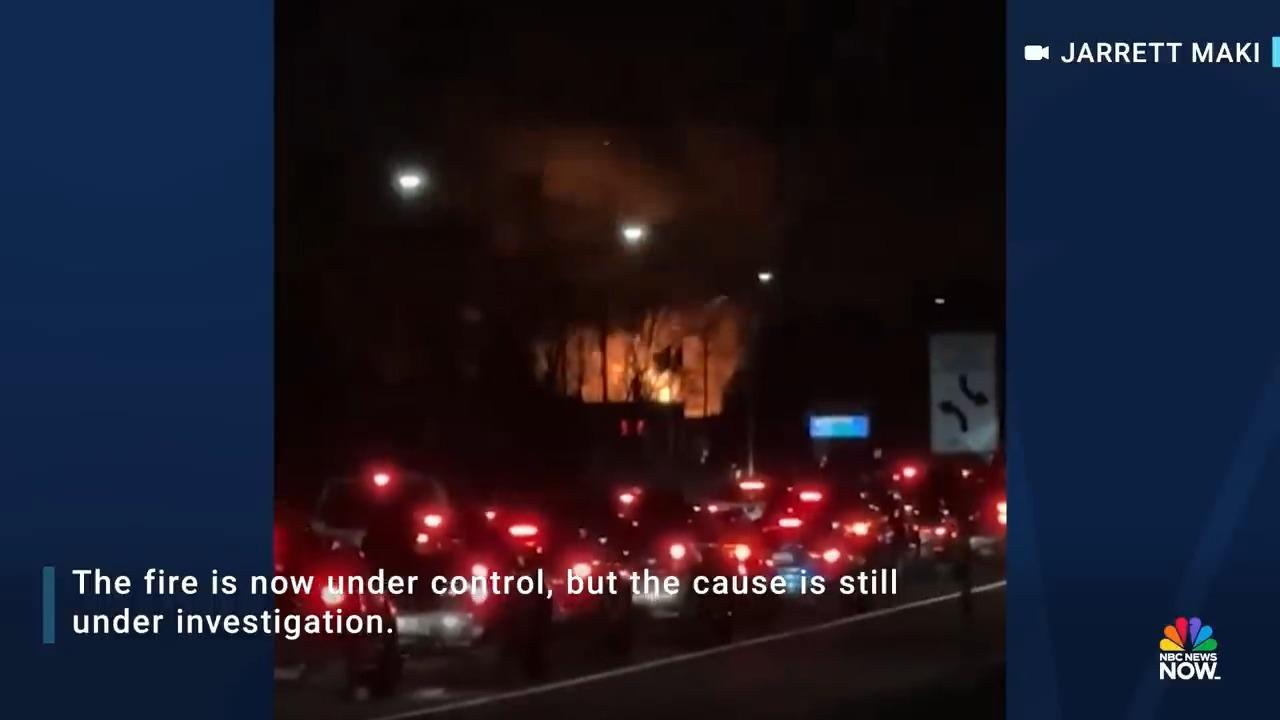fire: (586, 327, 712, 405)
